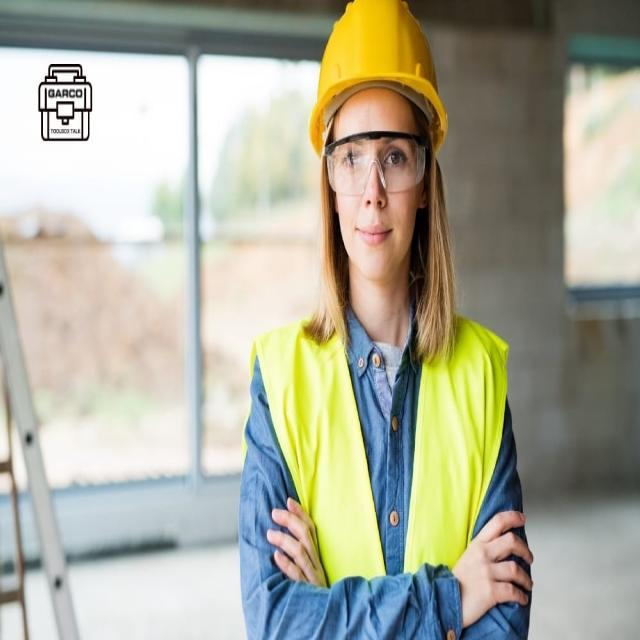goggles: (314, 121, 438, 194)
helmet: (302, 0, 450, 151)
vest: (229, 269, 524, 640)
